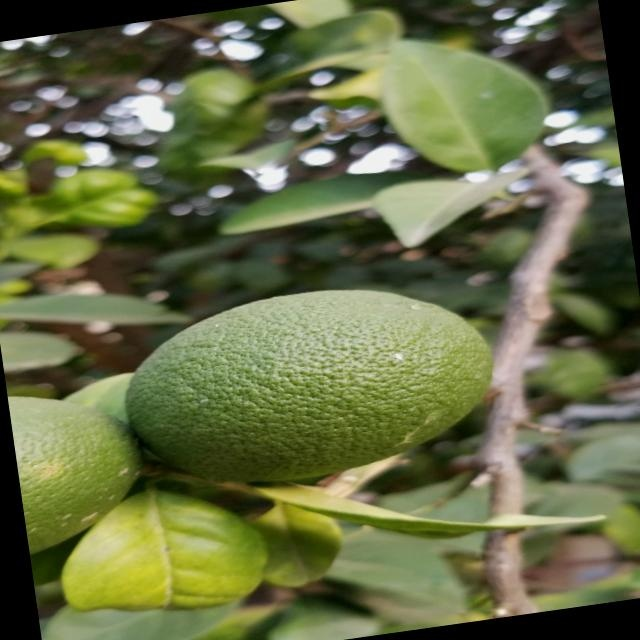agrume: (117, 259, 516, 505), (7, 373, 153, 562)
